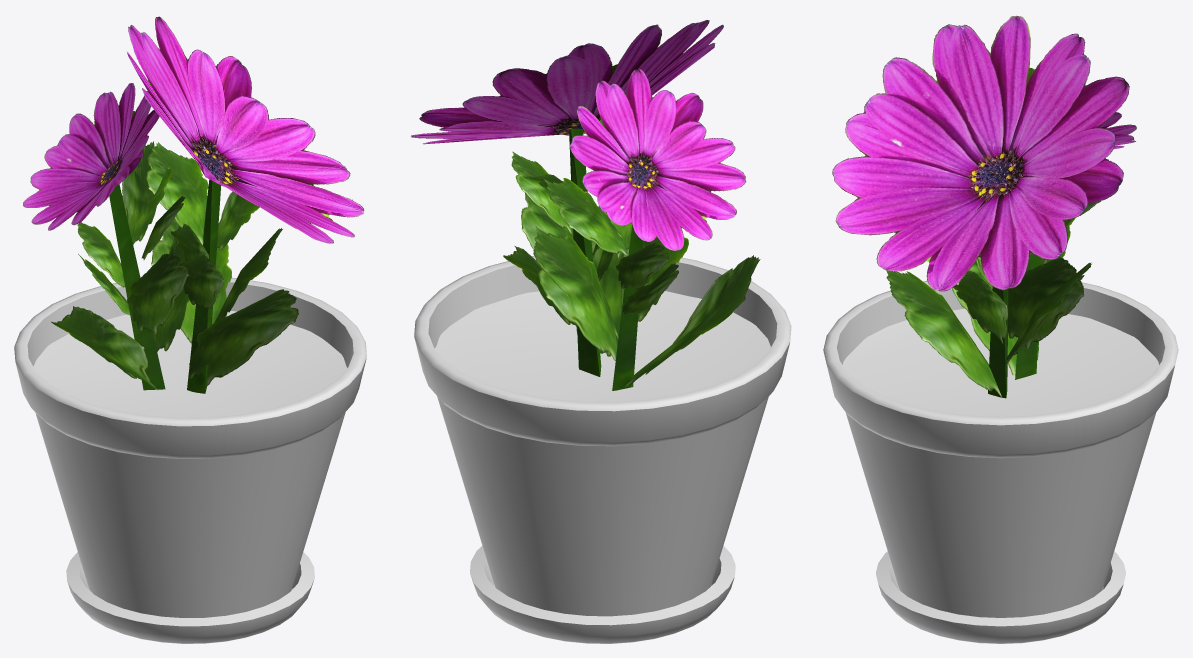
Rendered from flowerpot.fbx.
3 renders of one model, left to right at view 1: azimuth 30°, elevation 25°; view 2: azimuth 150°, elevation 25°; view 3: azimuth 270°, elevation 25°, orthographic. The views are drawn at different scales.
Parts seen in each view (by area): view 1: Cylinder; view 2: Cylinder; view 3: Cylinder.
Boxes of the visible parts, <box> form: Cylinder: <box>14,16,366,643</box>; Cylinder: <box>411,20,791,643</box>; Cylinder: <box>823,15,1178,643</box>.
Bounding box in the file's own units: 222 × 361 × 207.
Materials: 5 (3 with a texture image).
